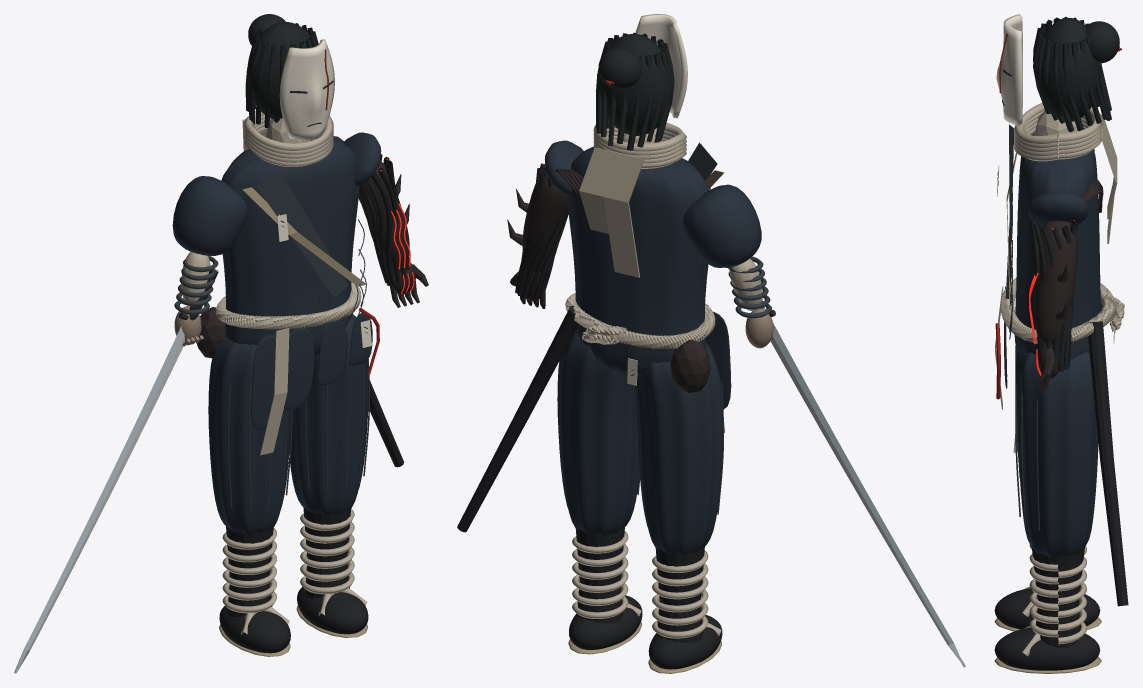
The model's file is Shirotsura.fbx.
3 views of the same model, side by side, from view 1: azimuth 30°, elevation 25°; view 2: azimuth 150°, elevation 25°; view 3: azimuth 270°, elevation 25° (orthographic). The views are drawn at different scales.
Parts seen in each view (by area): view 1: Work_jacket, Work_trouser_R, Work_trouser_L, Right_sleeve, Whitewood_mask, Sakaidachi_blade, Crossed_lapel, Hair_mass, Boot_R, Boot_L, Gaiter_R, Gaiter_L (+16 smaller); view 2: Work_jacket, Work_trouser_R, Work_trouser_L, Right_sleeve, Sakaidachi_blade, Sakaidachi_scabbard, Hair_mass, Rear_scarf_tail, Gaiter_L, Gaiter_R, Corrupted_left_arm, Whitewood_mask (+13 smaller); view 3: Work_trouser_L, Work_jacket, Sakaidachi_scabbard, Hair_mass, Corrupted_left_arm, Boot_L, Gaiter_L, Whitewood_mask, Torn_left_sleeve, Boot_R, Scarf_fold.004, Hair_knot (+40 smaller).
Part boxes in pixels (box(x1,y1,x2,y2)): Work_jacket: box(221, 138, 359, 355); Work_trouser_R: box(208, 336, 290, 534); Work_trouser_L: box(289, 314, 368, 515); Right_sleeve: box(172, 176, 247, 255); Whitewood_mask: box(279, 39, 334, 140); Sakaidachi_blade: box(14, 326, 184, 673); Crossed_lapel: box(256, 169, 348, 297); Hair_mass: box(247, 22, 309, 119); Boot_R: box(219, 605, 290, 653); Boot_L: box(297, 586, 368, 634); Gaiter_R: box(226, 526, 273, 617); Gaiter_L: box(303, 507, 350, 598); Work_jacket: box(567, 146, 709, 375); Work_trouser_R: box(634, 342, 722, 555); Work_trouser_L: box(557, 331, 639, 535); Right_sleeve: box(683, 184, 761, 267); Sakaidachi_blade: box(770, 323, 965, 667); Sakaidachi_scabbard: box(457, 305, 578, 532); Hair_mass: box(597, 34, 672, 135); Rear_scarf_tail: box(603, 153, 644, 277); Gaiter_L: box(575, 527, 624, 623); Gaiter_R: box(655, 547, 704, 642); Corrupted_left_arm: box(522, 169, 568, 272); Whitewood_mask: box(635, 14, 687, 118); Work_trouser_L: box(1015, 347, 1098, 557); Work_jacket: box(1014, 133, 1101, 359); Sakaidachi_scabbard: box(1088, 321, 1128, 606); Hair_mass: box(1036, 17, 1101, 121); Corrupted_left_arm: box(1034, 220, 1078, 344); Boot_L: box(994, 627, 1099, 670); Gaiter_L: box(1031, 547, 1084, 648); Whitewood_mask: box(996, 14, 1022, 126); Torn_left_sleeve: box(1028, 191, 1088, 225); Boot_R: box(994, 588, 1100, 629); Scarf_fold.004: box(1014, 103, 1102, 143); Hair_knot: box(1085, 21, 1119, 63).
Bounding box in the file's own units: 131 × 33.1 × 172.
